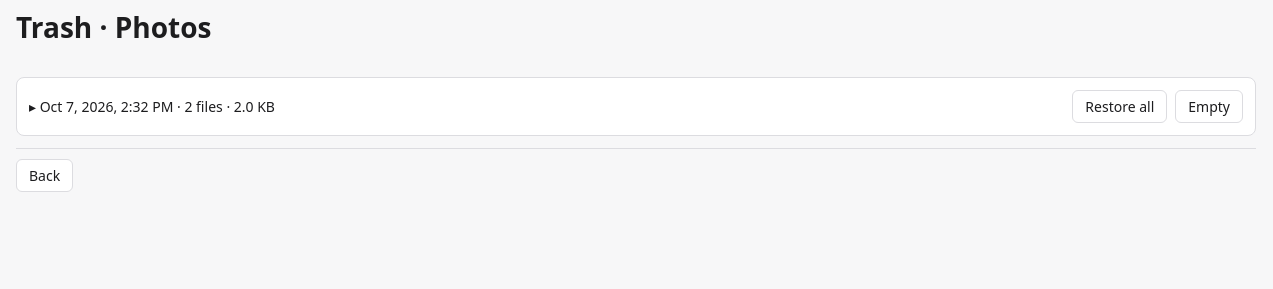
Scenario: Trash › shows no folder button for a run with every file recorded
Click the button "▸ Oct 7, 2026, 2:32 PM · 2 files · 2.0 KB": (152, 106) [29, 96, 275, 116]
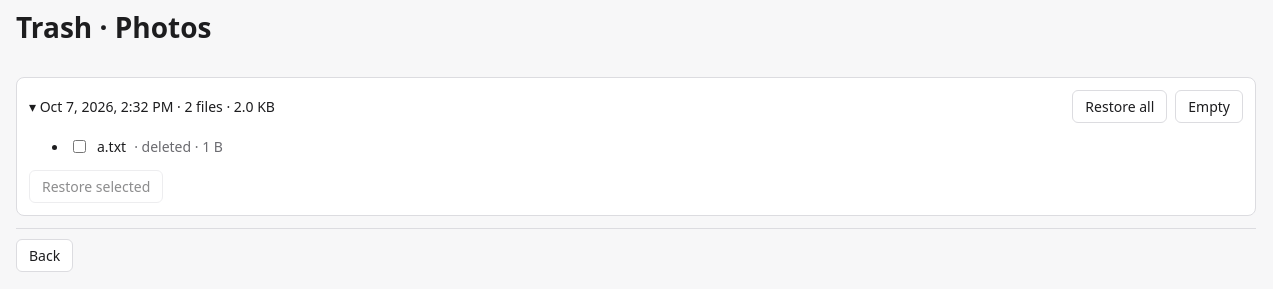
Check: the text "a.txt · deleted · 1 B" is shown, box [73, 136, 223, 156]
